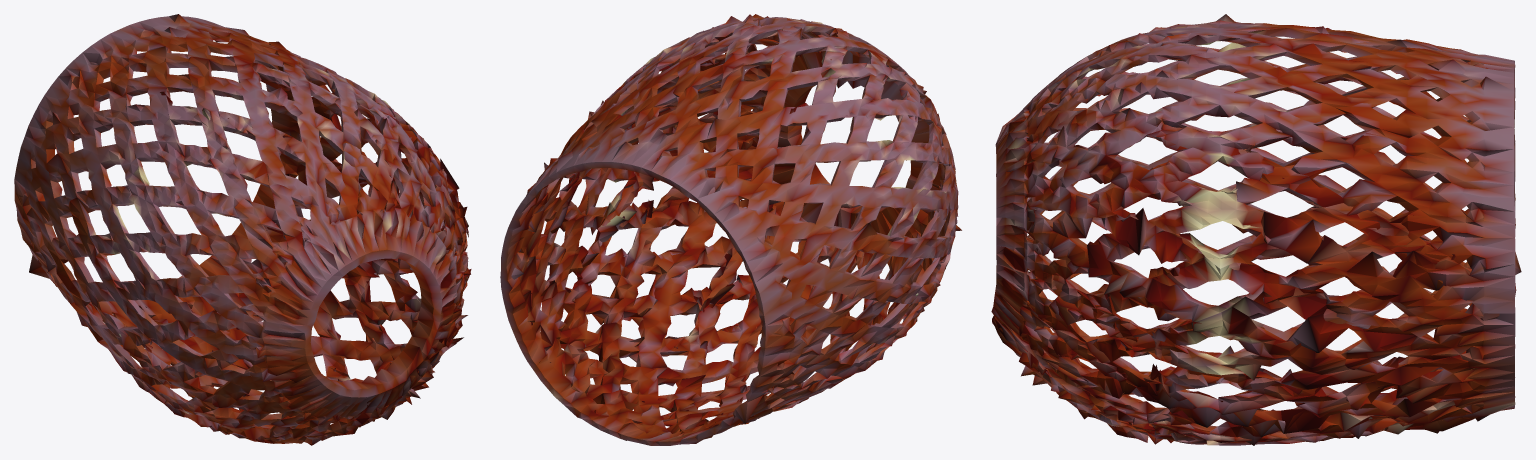
File: lamp_shade_14_final300.obj
3 views of the same model, side by side, from view 1: azimuth 30°, elevation 25°; view 2: azimuth 150°, elevation 25°; view 3: azimuth 270°, elevation 25° (orthographic). The views are drawn at different scales.
Size of the model in its own units: 1.24 by 1.23 by 1.52.
